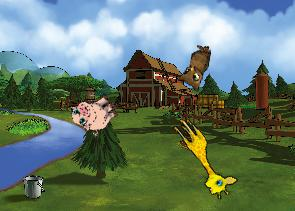giraffe: (162, 113, 241, 203)
owl: (176, 41, 211, 92)
pig: (66, 86, 122, 140)
